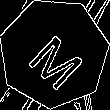M_NE: (21, 19, 88, 87)
